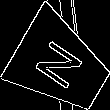N_SE: (31, 35, 90, 96)
